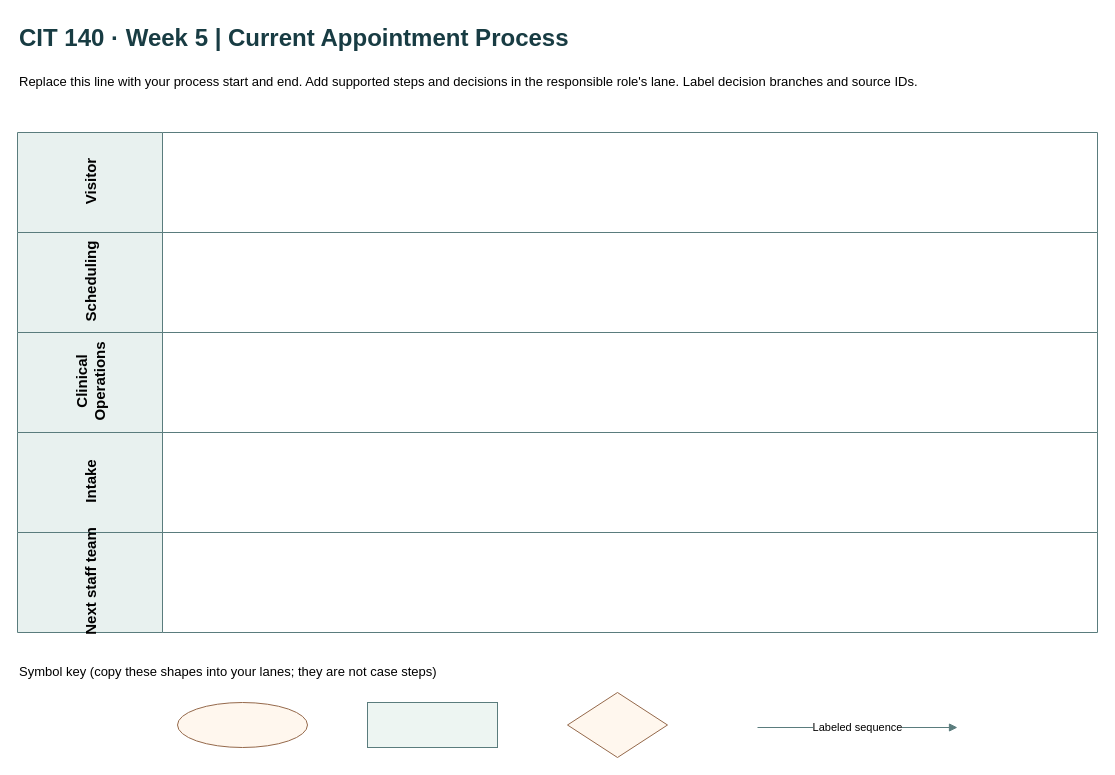
This 1115x775 diagram has some shape labels left out. Here are the shapes that lost their labels. From the top down, the box of each, then its label:
(176, 702, 308, 748): Start / end
(366, 702, 498, 748): Activity
(566, 692, 668, 758): Decision?
